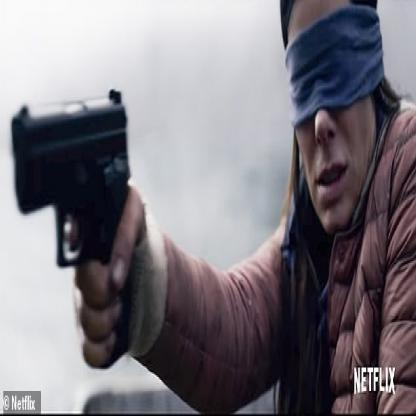Pistol: (7, 77, 138, 388)
